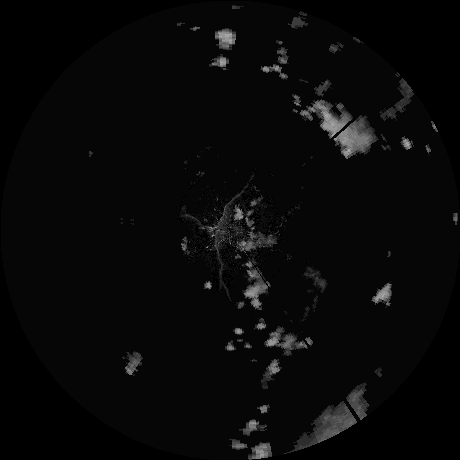frontgust: (213, 189, 244, 279)
